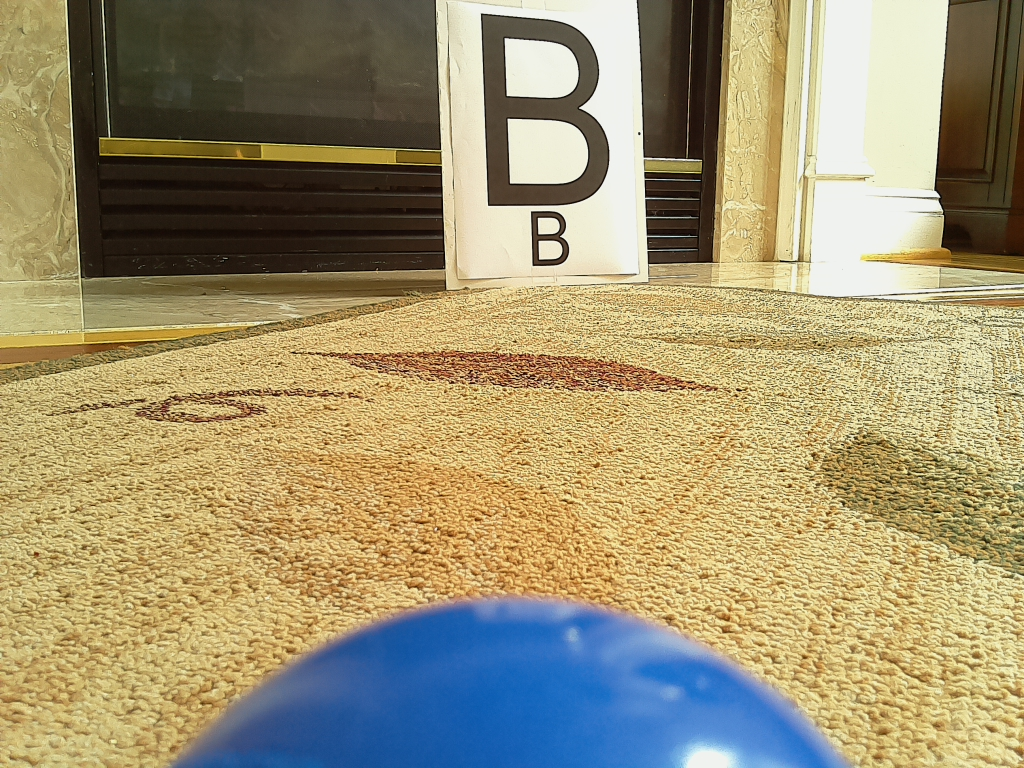letter: (487, 15, 609, 206)
